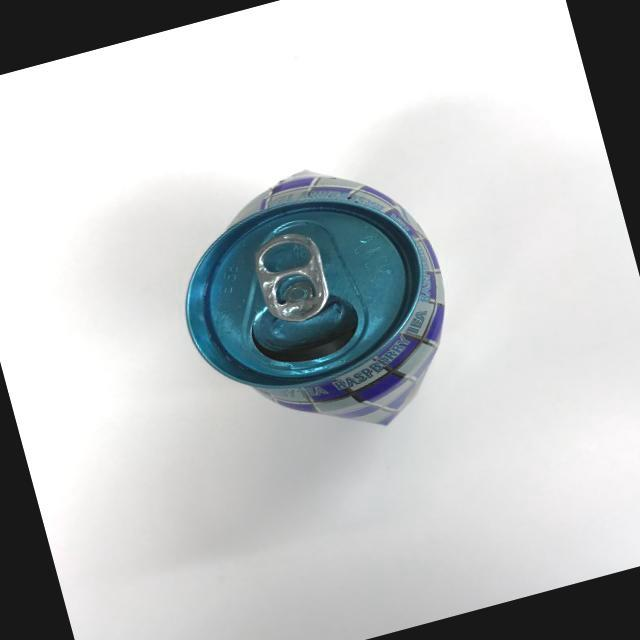metal: (133, 123, 538, 479)
